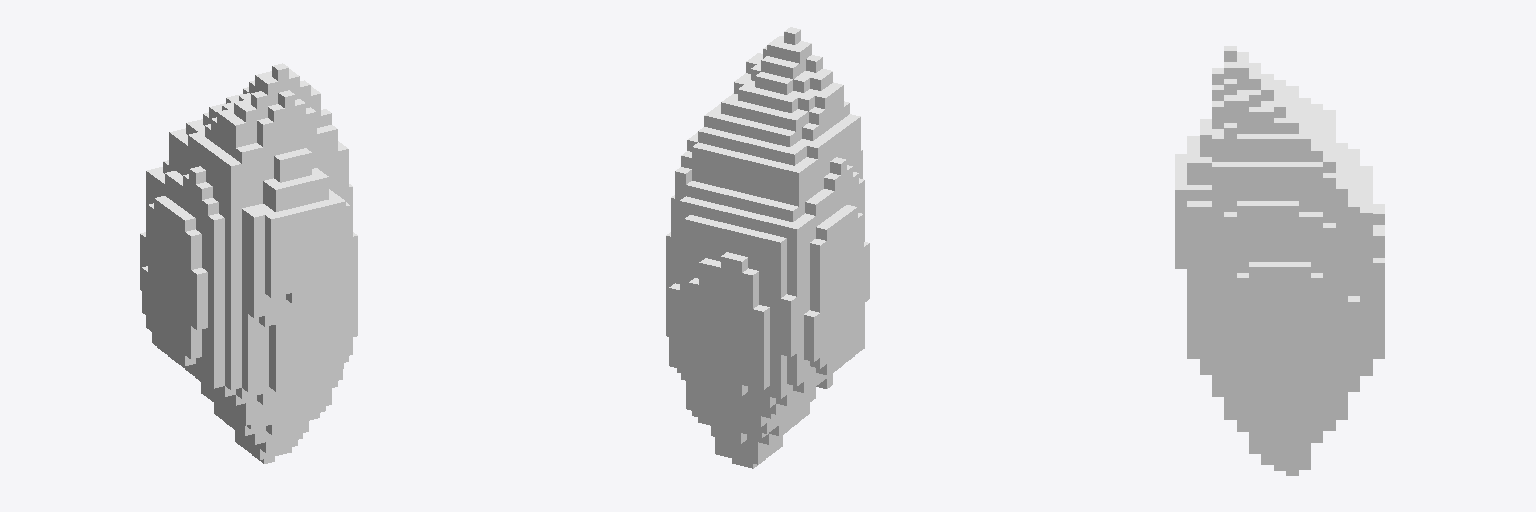
Rendered from crystal.obj.
3 views of the same model, side by side, from view 1: azimuth 30°, elevation 25°; view 2: azimuth 150°, elevation 25°; view 3: azimuth 270°, elevation 25° (orthographic).
Bounding box in the file's own units: 15 × 37 × 17.